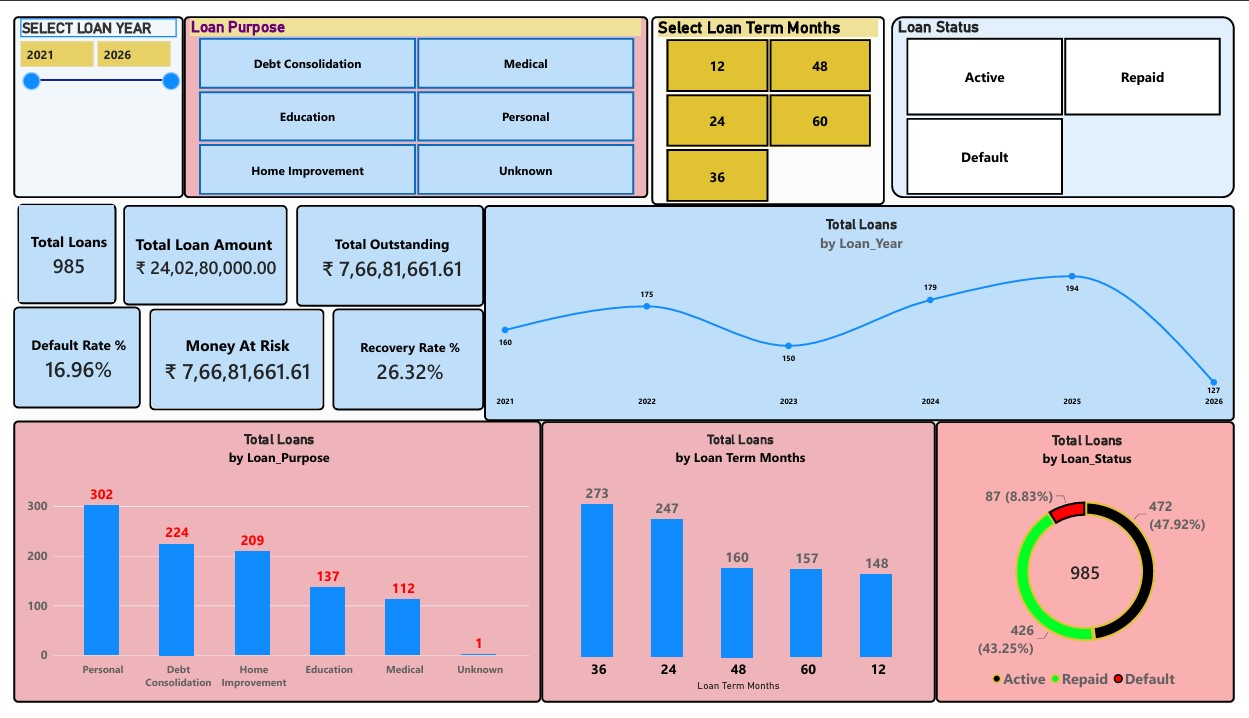

What the dashboard file says about the page in this screenshot:
{"tool":"powerbi","page":{"name":"Executive Summary","canvas":[1920,1080],"ordinal":0},"visuals":[{"type":"slicer","fields":{"Values":["LDR.Loan_Year"]},"box":[0,0,268,286],"z":0},{"type":"slicer","fields":{"Values":["LDR.Loan_Purpose"]},"box":[268,0,730,286],"z":1000},{"type":"slicer","fields":{"Values":["LDR.Loan_Term_Months"]},"box":[1003.3,0,366.7,296.7],"z":2000},{"type":"slicer","fields":{"Values":["LDR.Loan_Status"]},"box":[1380,0,540,286],"z":3000},{"type":"cardVisual","fields":{"Data":["LDR.Total Loans"]},"box":[6.7,295,155,158.3],"z":4000},{"type":"cardVisual","fields":{"Data":["LDR.Total Loan Amount"]},"box":[173.3,296.7,258.3,158.3],"z":5000},{"type":"cardVisual","fields":{"Data":["LDR.Total Outstanding"]},"box":[445,296.7,295,160],"z":6000},{"type":"cardVisual","fields":{"Data":["LDR.Default Rate %"]},"box":[0,456.7,200,160],"z":7000},{"type":"cardVisual","fields":{"Data":["LDR.Money At Risk"]},"box":[214,460,275,160],"z":8000},{"type":"cardVisual","fields":{"Data":["LDR.Recovery Rate %"]},"box":[501.7,460,238.3,160],"z":9000},{"type":"donutChart","fields":{"Category":["LDR.Loan_Status"],"Y":["LDR.Total Loans"]},"box":[1450,636.7,470,443.3],"z":10000},{"type":"columnChart","fields":{"Category":["LDR.Loan_Purpose"],"Y":["LDR.Total Loans"]},"box":[0,636,830,444],"z":11000},{"type":"clusteredColumnChart","fields":{"Category":["LDR.Loan_Term_Months"],"Y":["LDR.Total Loans"]},"box":[830,636.7,620,443.3],"z":12000},{"type":"lineChart","fields":{"Category":["LDR.Loan_Year"],"Y":["LDR.Total Loans"]},"box":[740,296.7,1180,340],"z":13000}]}

Visuals, with their boxes in screenshot pixels (x1, y1, x2, y2), scaled from the page's 1920x1080 canvas onto the 1249x718 screenshot:
slicer - LDR.Loan_Year: detection(0, 0, 174, 190)
slicer - LDR.Loan_Purpose: detection(174, 0, 649, 190)
slicer - LDR.Loan_Term_Months: detection(653, 0, 891, 197)
slicer - LDR.Loan_Status: detection(898, 0, 1248, 190)
cardVisual - LDR.Total Loans: detection(4, 196, 105, 301)
cardVisual - LDR.Total Loan Amount: detection(113, 197, 281, 302)
cardVisual - LDR.Total Outstanding: detection(289, 197, 481, 304)
cardVisual - LDR.Default Rate %: detection(0, 304, 130, 410)
cardVisual - LDR.Money At Risk: detection(139, 306, 318, 412)
cardVisual - LDR.Recovery Rate %: detection(326, 306, 481, 412)
donutChart - LDR.Loan_Status x LDR.Total Loans: detection(943, 423, 1248, 717)
columnChart - LDR.Loan_Purpose x LDR.Total Loans: detection(0, 423, 540, 717)
clusteredColumnChart - LDR.Loan_Term_Months x LDR.Total Loans: detection(540, 423, 943, 717)
lineChart - LDR.Loan_Year x LDR.Total Loans: detection(481, 197, 1248, 423)
